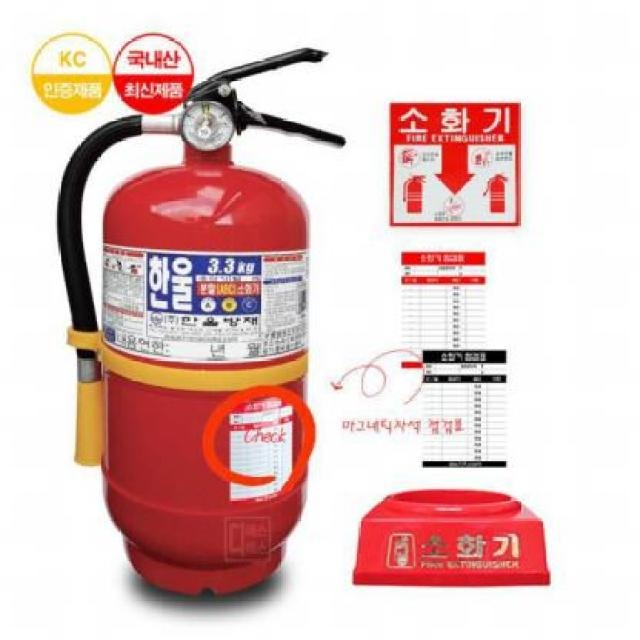fire extinguisher: (56, 47, 347, 595)
